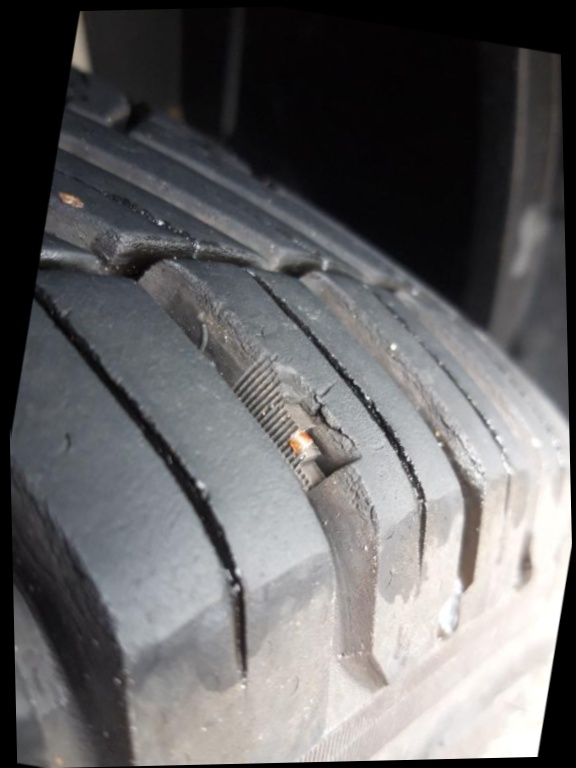temoin:80: (210, 339, 381, 508)
